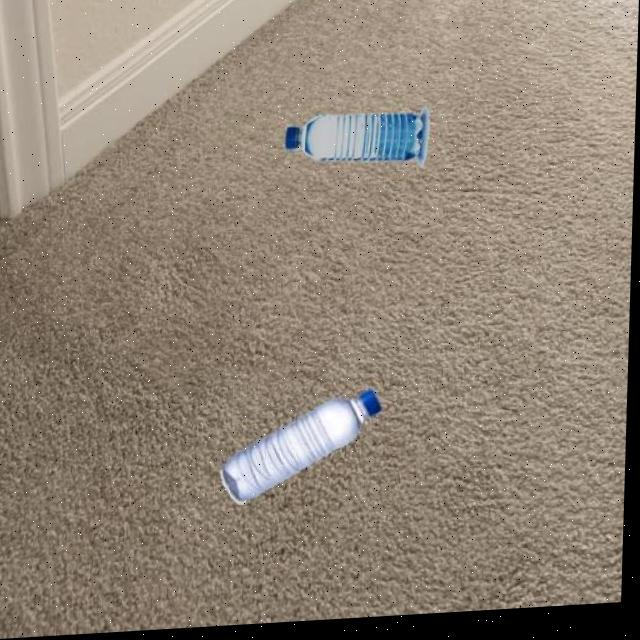bottle: (220, 391, 384, 509), (283, 110, 430, 178)
